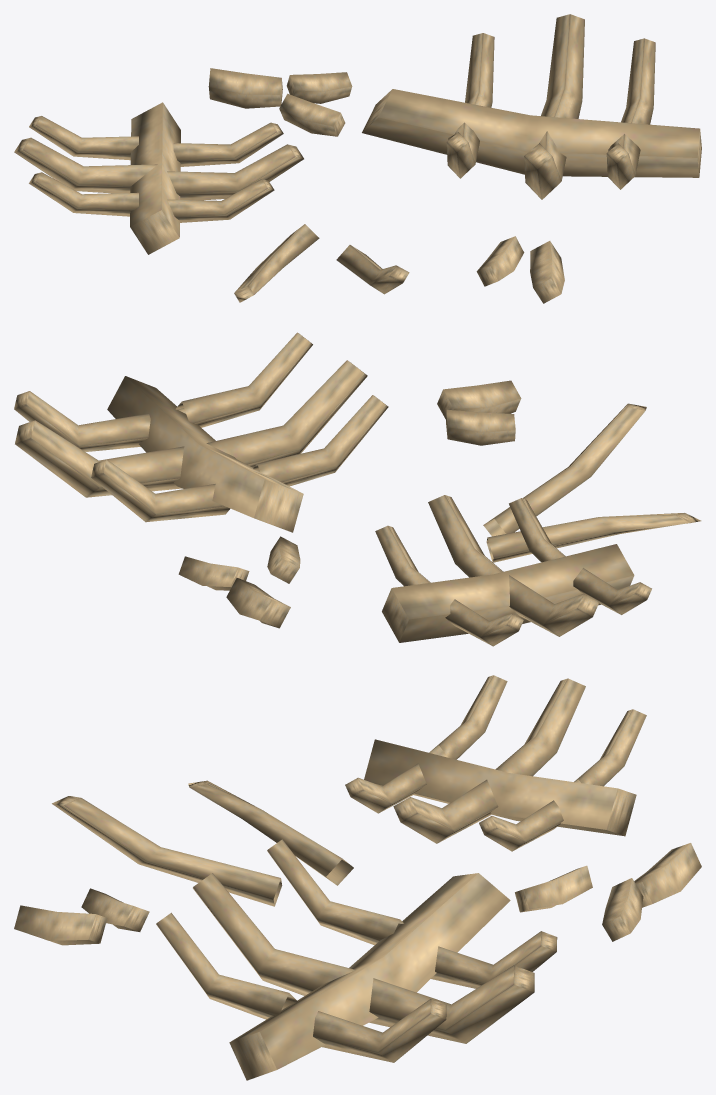
3 renders of one model, top to bottom at view 1: azimuth 30°, elevation 25°; view 2: azimuth 150°, elevation 25°; view 3: azimuth 270°, elevation 25°, orthographic. The views are drawn at different scales.
Parts seen in each view (by area): view 1: SMDImport; view 2: SMDImport; view 3: SMDImport.
Part boxes in pixels (bbox=[...]): SMDImport: bbox=[14, 14, 701, 303]; SMDImport: bbox=[14, 332, 701, 646]; SMDImport: bbox=[14, 675, 701, 1080].
Size of the model in its own units: 125 by 21.87 by 103.
